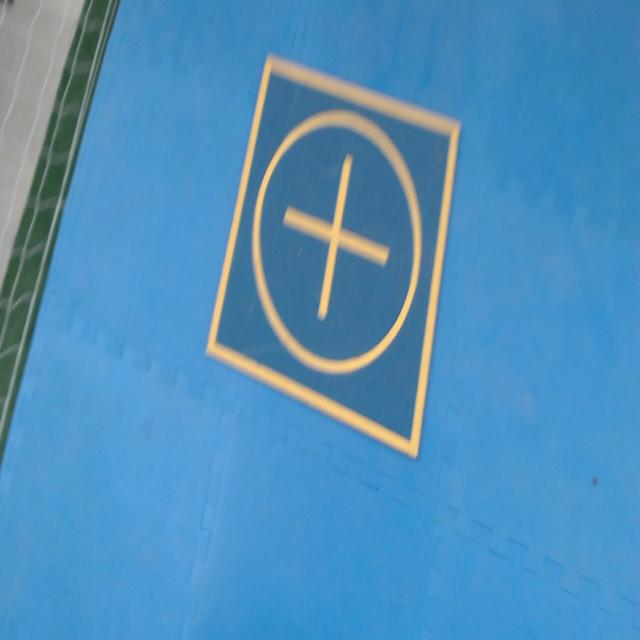base_pouso: (206, 51, 460, 460)
